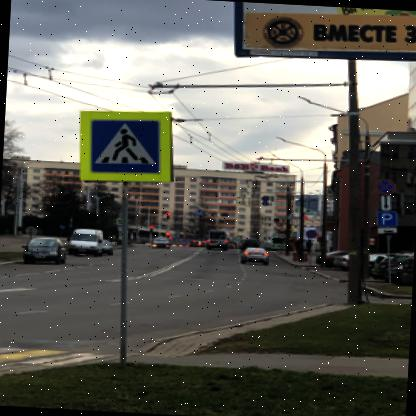crosswalk: (86, 114, 160, 174)
